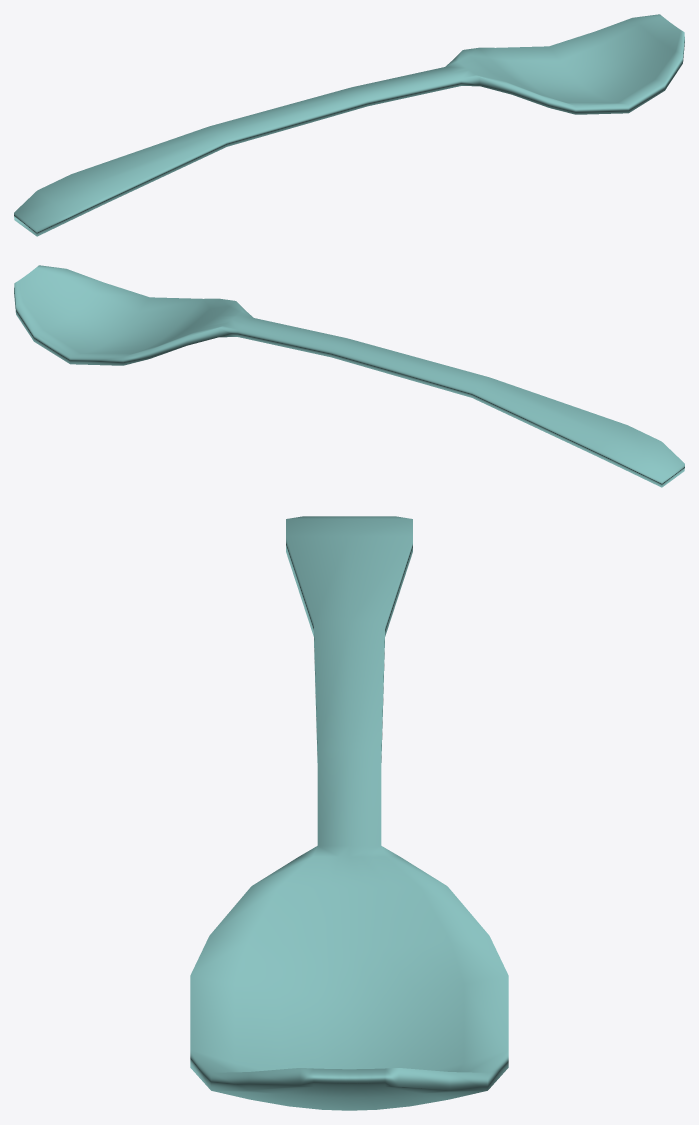
The model's file is spoon.fbx.
3 views of the same model, one above another, from view 1: azimuth 30°, elevation 25°; view 2: azimuth 150°, elevation 25°; view 3: azimuth 270°, elevation 25° (orthographic). The views are drawn at different scales.
Parts seen in each view (by area): view 1: pCube210; view 2: pCube210; view 3: pCube210.
Part boxes in pixels (x1,y1,x2,y2): pCube210: [14, 14, 684, 236]; pCube210: [14, 265, 684, 487]; pCube210: [190, 516, 508, 1110].
Bounding box in the file's own units: 0.2675 × 0.0246 × 0.0569.
